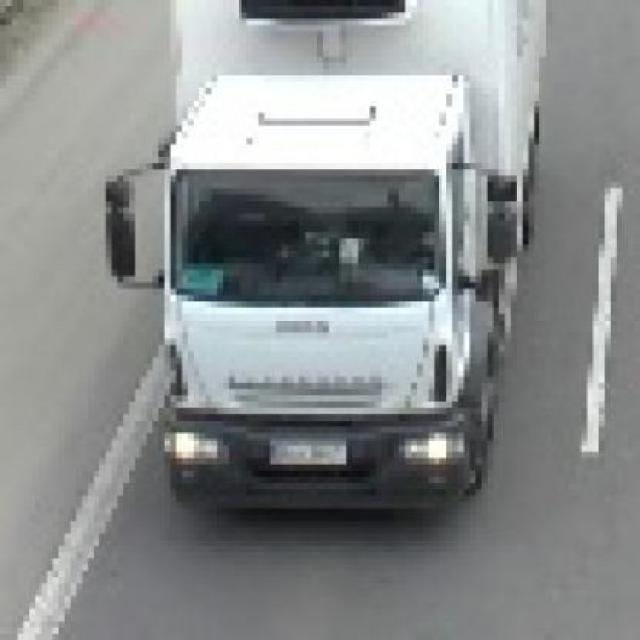truck: (114, 1, 554, 509)
